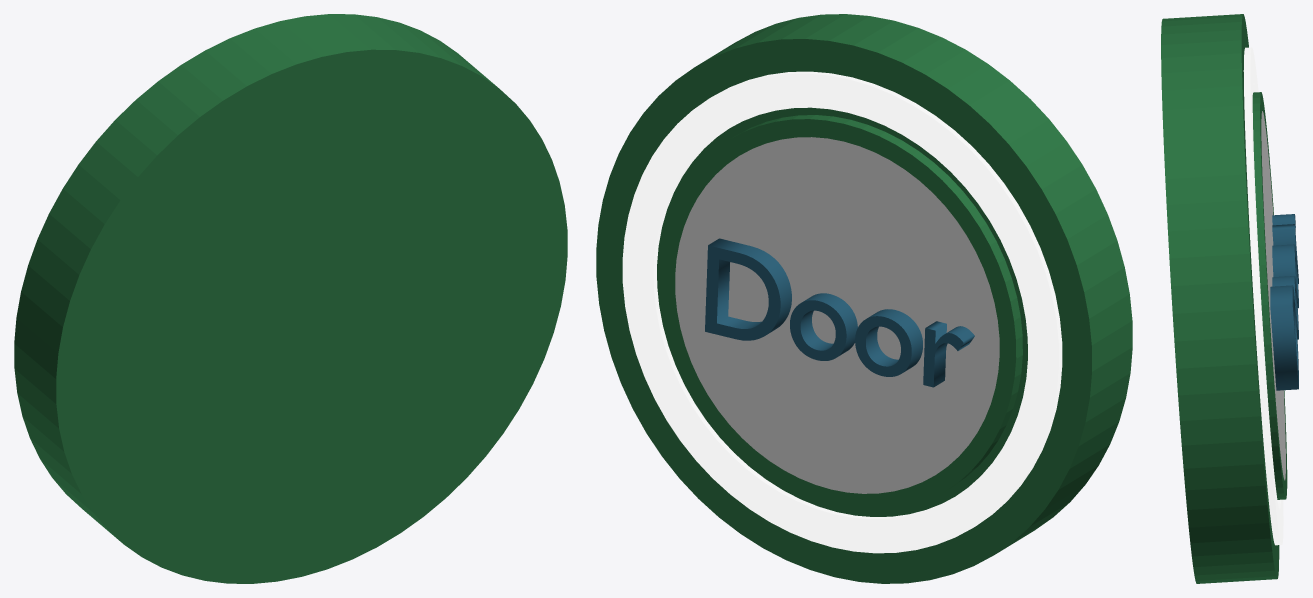
The model's file is 241211_CAB_Door_Button.gltf.
3 views of the same model, side by side, from view 1: azimuth 30°, elevation 25°; view 2: azimuth 150°, elevation 25°; view 3: azimuth 270°, elevation 25° (orthographic). The views are drawn at different scales.
Parts seen in each view (by area): view 1: Door_Switch; view 2: Door_Switch; view 3: Door_Switch.
Part boxes in pixels (bbox=[...]): Door_Switch: bbox=[14, 14, 567, 583]; Door_Switch: bbox=[596, 14, 1132, 583]; Door_Switch: bbox=[1161, 14, 1298, 583].
Bounding box in the file's own units: 0.1259 × 0.1268 × 0.0306.
